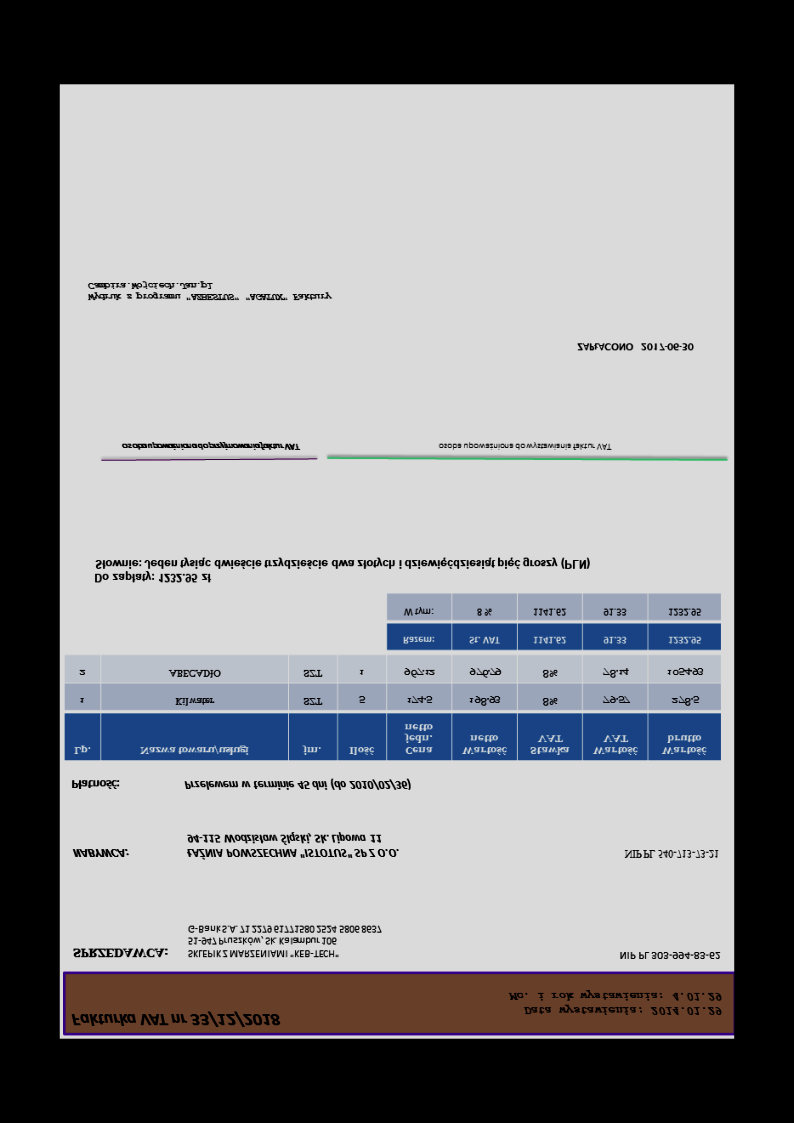Table: (62, 655, 722, 763), (384, 592, 722, 652)
TextBox: (92, 554, 592, 586), (185, 921, 383, 962), (505, 988, 723, 1019), (184, 831, 402, 861), (86, 279, 335, 305), (68, 1009, 282, 1032), (182, 778, 412, 792), (119, 440, 300, 454), (435, 440, 615, 453), (575, 339, 696, 355), (70, 944, 168, 961), (617, 949, 723, 964), (621, 847, 722, 862), (70, 845, 129, 860), (68, 777, 122, 792)
